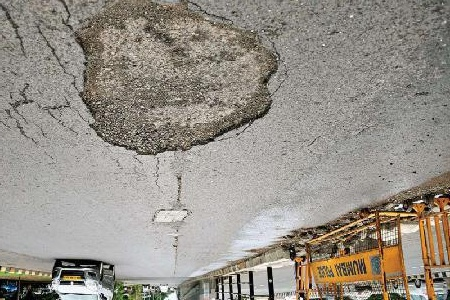pothole: (73, 0, 282, 160)
